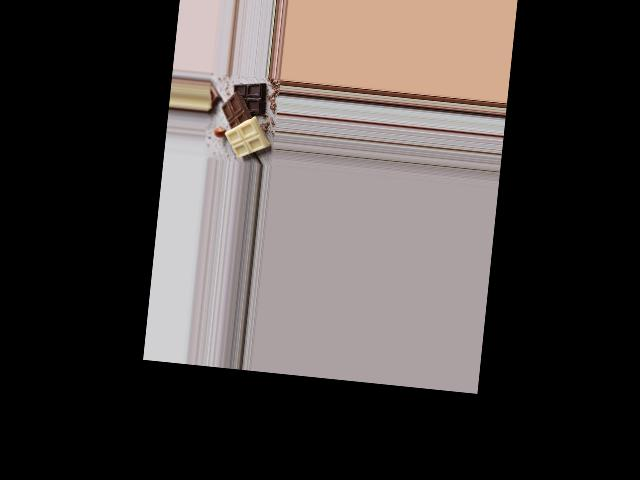chocolate: (216, 75, 272, 160)
